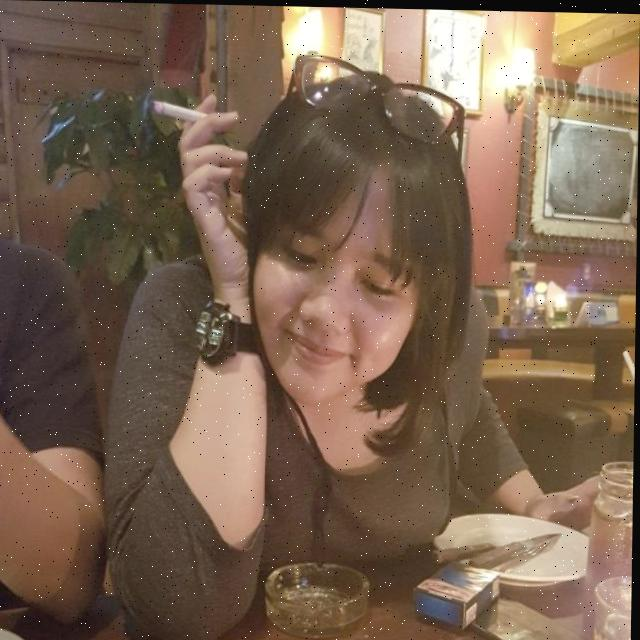cigarette: (153, 100, 210, 121)
